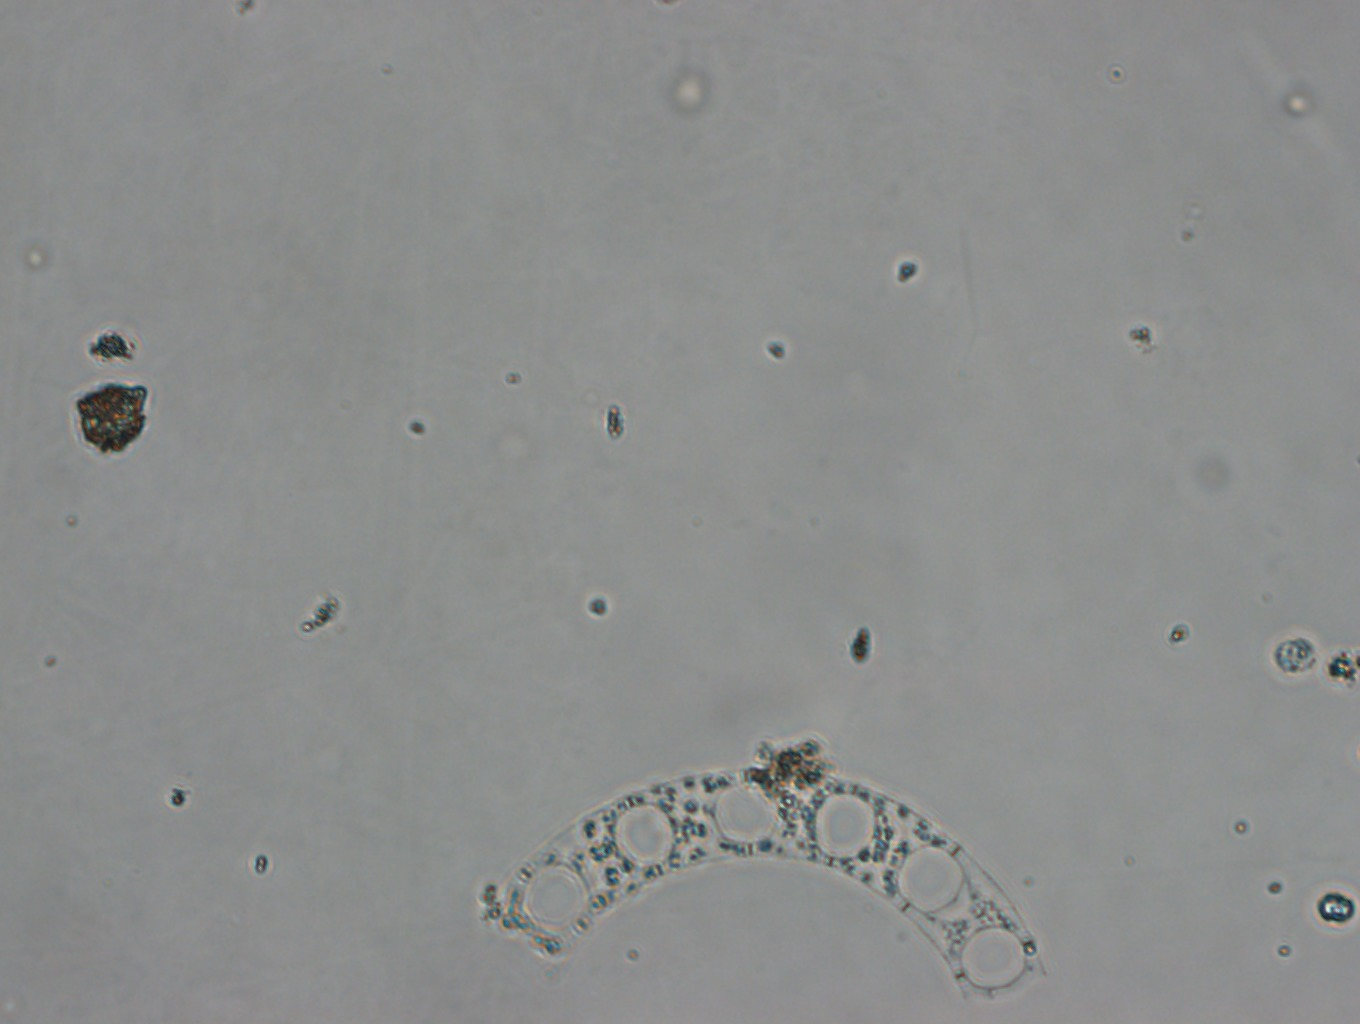eucampia: (481, 751, 1106, 1014)
